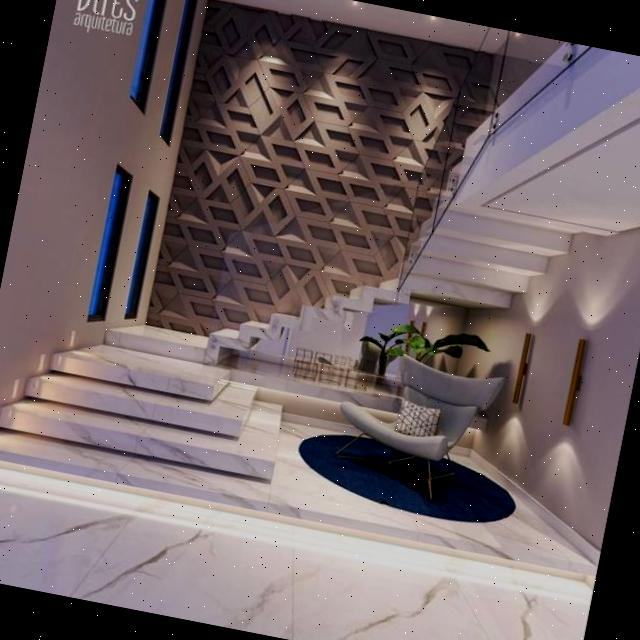stairs: (0, 336, 289, 484)
